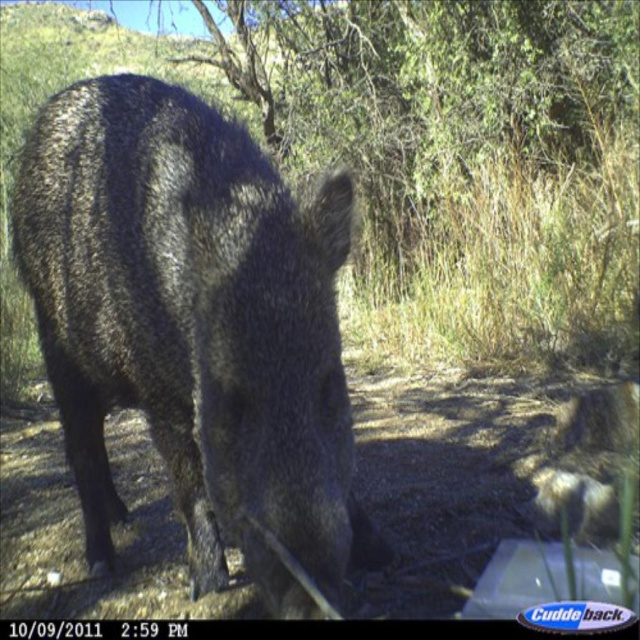Pig: (9, 72, 397, 619)
